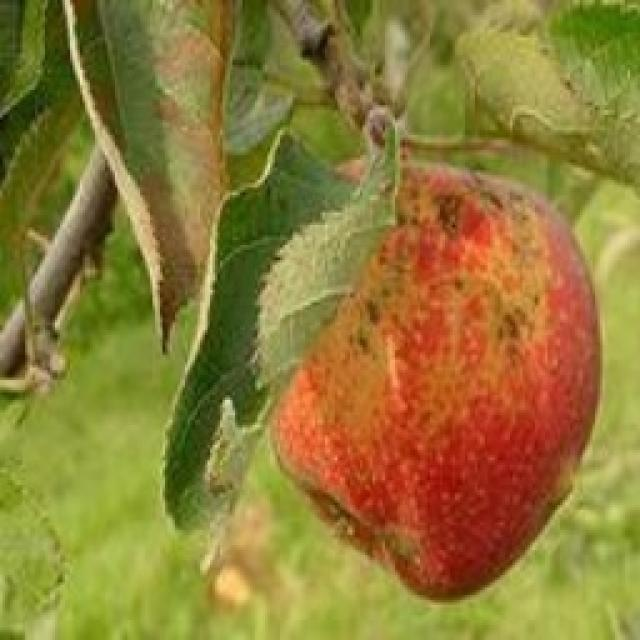defective: (262, 155, 602, 602)
